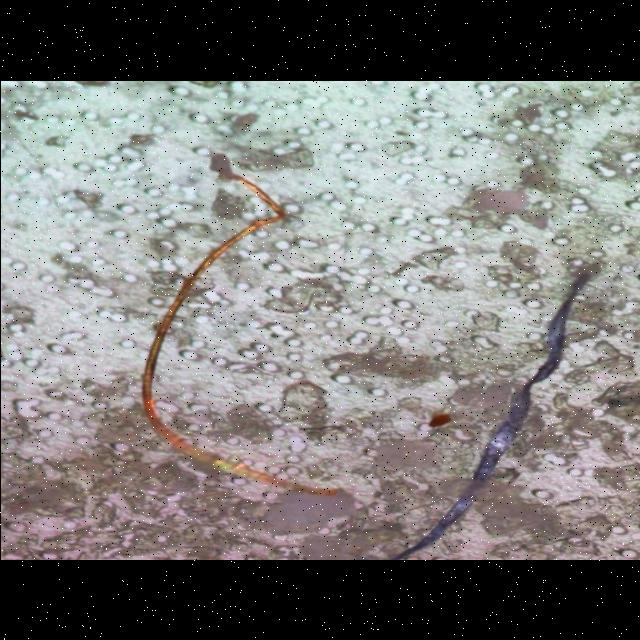Fibre: (353, 260, 604, 560), (140, 151, 342, 499)
